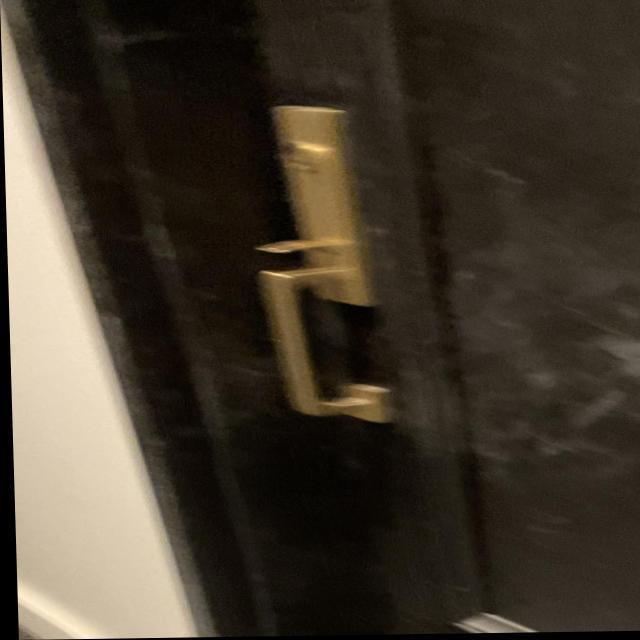door_handle: (232, 258, 408, 429)
